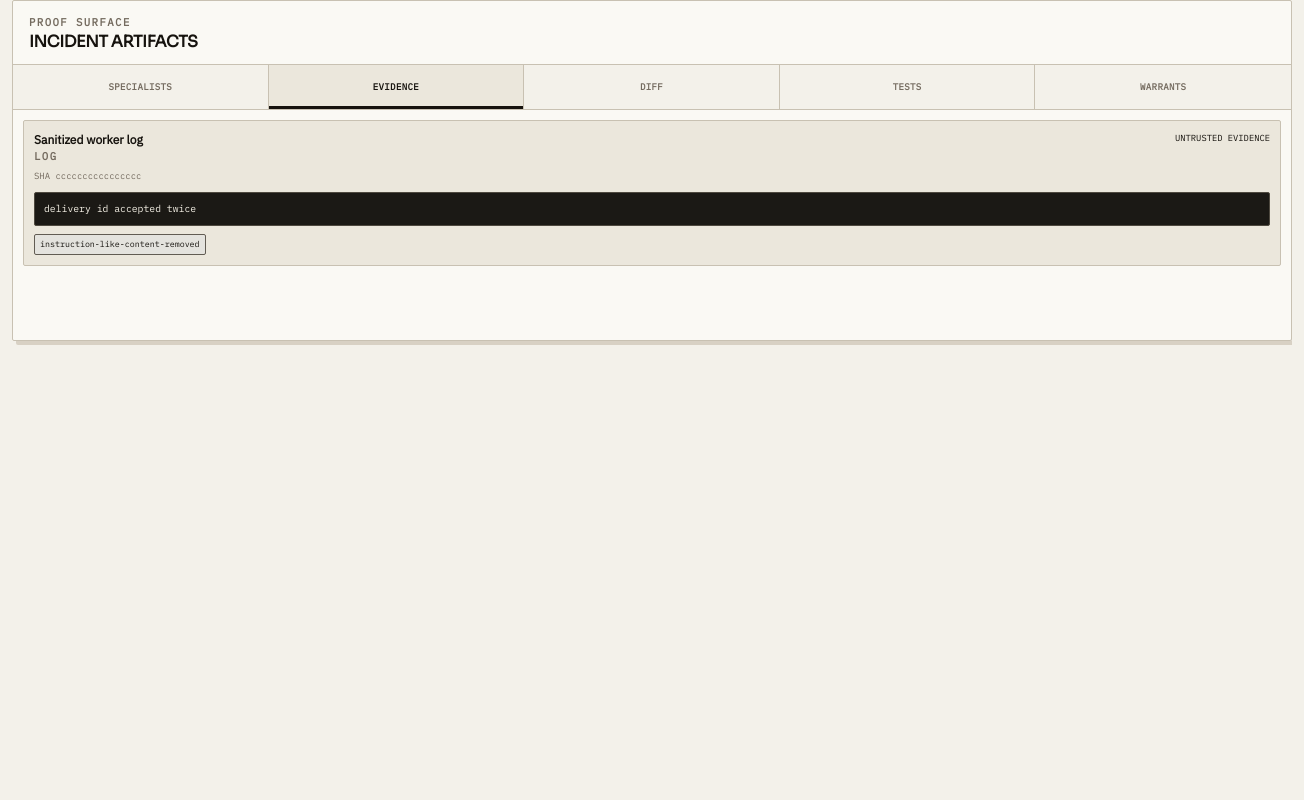
Scenario: InspectorPanel › keeps failed and replacement warrants with safe bindings and receipt identity
Click the tab "Warrants".
click(1163, 87)  # box [1035,65,1291,109]
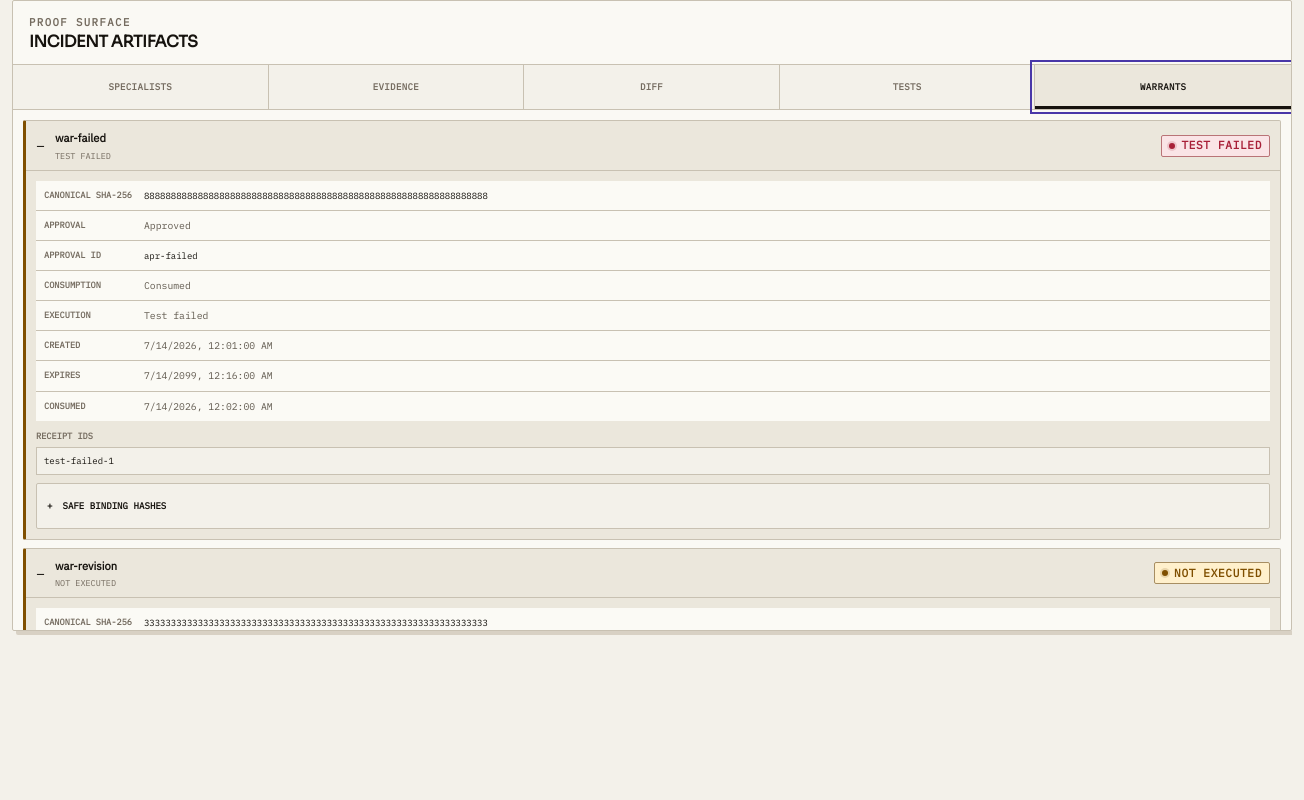
Expected: the element with test id "warrant-history-war-failed" shows "Test failed", [55,150,111,161]
Expected: the element with test id "warrant-history-war-failed" shows "Consumed", [144,279,191,292]
Expected: the element with test id "warrant-history-war-failed" shows "test-failed-1", [44,455,114,466]
